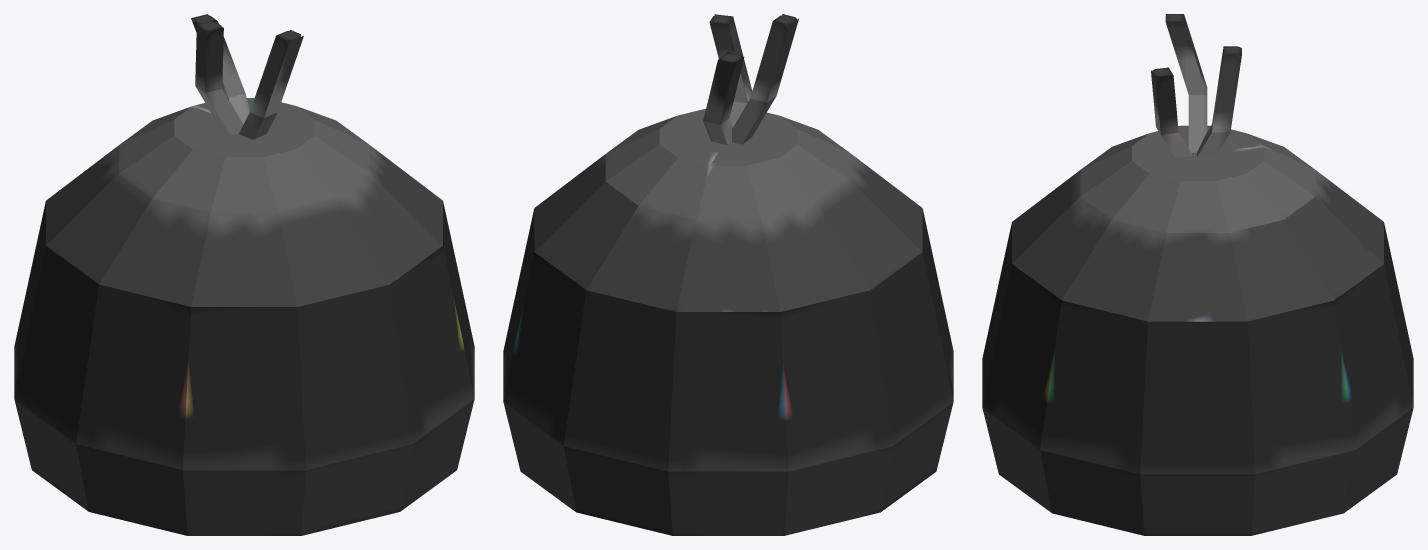
Rendered from Sampah1.fbx.
The picture shows the model from 3 angles, left to right: view 1: azimuth 30°, elevation 25°; view 2: azimuth 150°, elevation 25°; view 3: azimuth 270°, elevation 25°; orthographic projection. The views are drawn at different scales.
Visible parts, largest first — view 1: cylinder, cuboid_2, cuboid_1, cuboid; view 2: cylinder, cuboid_1, cuboid, cuboid_2; view 3: cylinder, cuboid_1, cuboid, cuboid_2.
Part boxes in pixels (x1=…): cylinder: x1=14, y1=98, x2=474, y2=535; cuboid_2: x1=238, y1=30, x2=303, y2=139; cuboid_1: x1=195, y1=20, x2=243, y2=135; cuboid: x1=191, y1=14, x2=249, y2=123; cylinder: x1=503, y1=108, x2=953, y2=535; cuboid_1: x1=732, y1=14, x2=798, y2=144; cuboid: x1=703, y1=52, x2=744, y2=145; cuboid_2: x1=709, y1=14, x2=752, y2=126; cylinder: x1=982, y1=125, x2=1413, y2=535; cuboid_1: x1=1165, y1=14, x2=1207, y2=152; cuboid: x1=1197, y1=46, x2=1241, y2=157; cuboid_2: x1=1151, y1=67, x2=1192, y2=157.
Size of the model in its own units: 155 by 163 by 155.
Materials: 1 (1 with a texture image).
